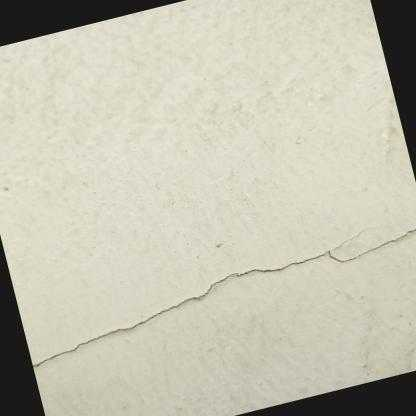crack: (32, 224, 416, 370)
